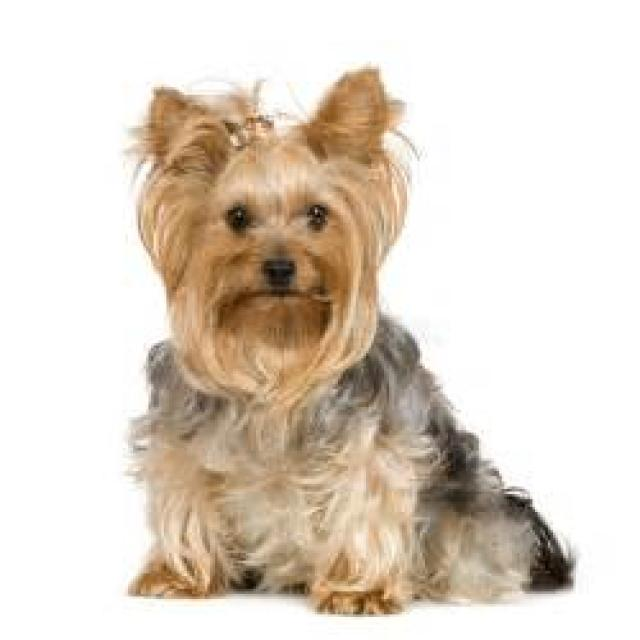animal: (120, 61, 576, 617)
